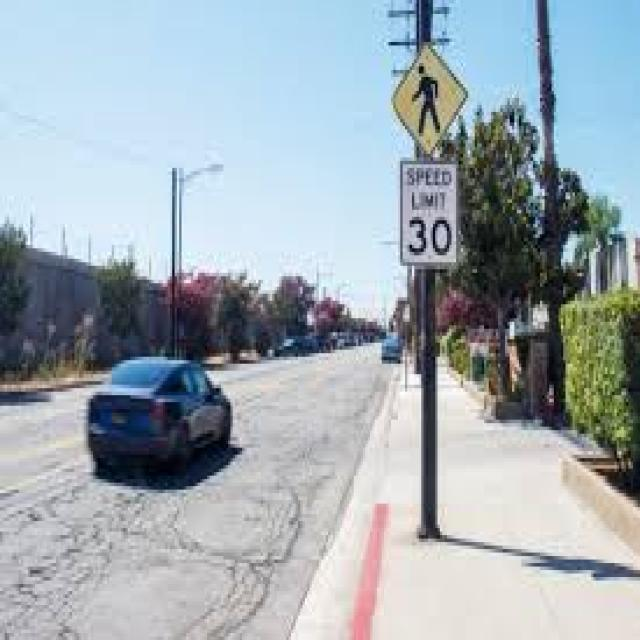speedLimit30: (405, 164, 454, 259)
